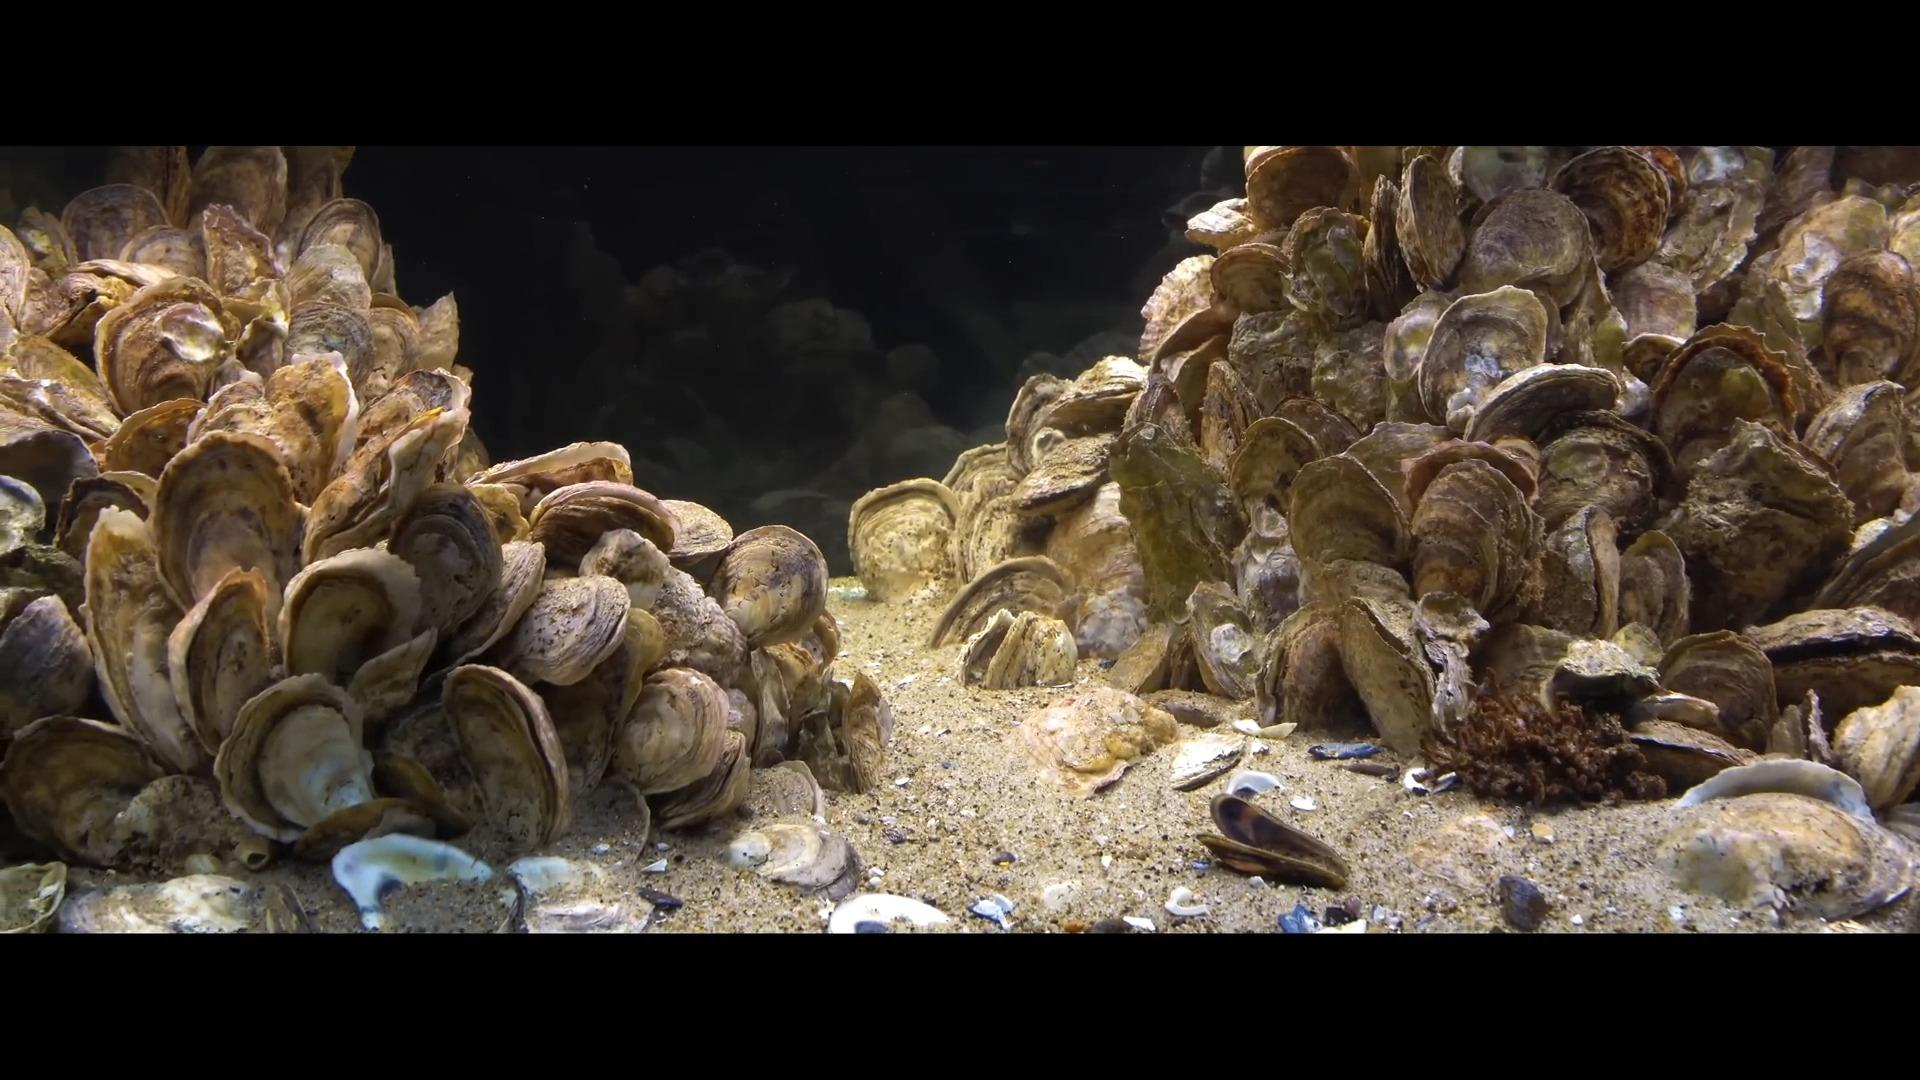Oyster: (82, 510, 195, 771), (149, 427, 298, 618), (212, 674, 377, 843), (301, 393, 465, 562), (1, 715, 166, 866), (442, 665, 572, 851), (1642, 320, 1816, 452), (277, 545, 427, 696), (1406, 454, 1538, 620), (165, 568, 277, 761), (1410, 286, 1552, 434), (1758, 603, 1919, 732), (1333, 595, 1449, 765), (380, 488, 500, 651), (96, 286, 235, 423), (1528, 414, 1671, 539), (1549, 146, 1680, 277), (1457, 185, 1596, 307), (1284, 451, 1411, 583), (1259, 597, 1378, 737), (1651, 626, 1782, 753), (496, 568, 632, 687), (708, 524, 829, 650), (1462, 360, 1630, 451), (1815, 249, 1919, 392), (277, 248, 378, 393), (524, 479, 680, 572), (446, 539, 553, 674), (0, 593, 96, 741), (1816, 384, 1917, 524), (617, 669, 728, 796), (931, 554, 1068, 654), (258, 352, 357, 491), (1530, 501, 1626, 641), (637, 566, 748, 687), (531, 659, 625, 800), (845, 479, 953, 600), (468, 439, 638, 514), (0, 421, 105, 539), (1282, 203, 1375, 332), (1828, 679, 1920, 810), (1224, 406, 1320, 527), (37, 262, 158, 356), (1393, 153, 1468, 297), (291, 798, 448, 865), (1242, 145, 1361, 233), (99, 394, 207, 489), (4, 334, 119, 422), (357, 365, 469, 455), (737, 819, 861, 898), (59, 181, 170, 269), (289, 196, 385, 297), (1179, 580, 1257, 704), (189, 146, 286, 244), (53, 472, 153, 567), (1007, 436, 1124, 518), (1614, 530, 1689, 650), (372, 752, 475, 837), (1361, 171, 1422, 316), (1027, 377, 1145, 451), (1607, 261, 1700, 355), (198, 200, 281, 302), (957, 485, 1038, 585), (833, 669, 893, 798), (1207, 239, 1294, 319), (1002, 372, 1073, 465), (748, 644, 802, 757), (1150, 298, 1233, 369), (744, 760, 827, 828), (409, 287, 462, 377)
